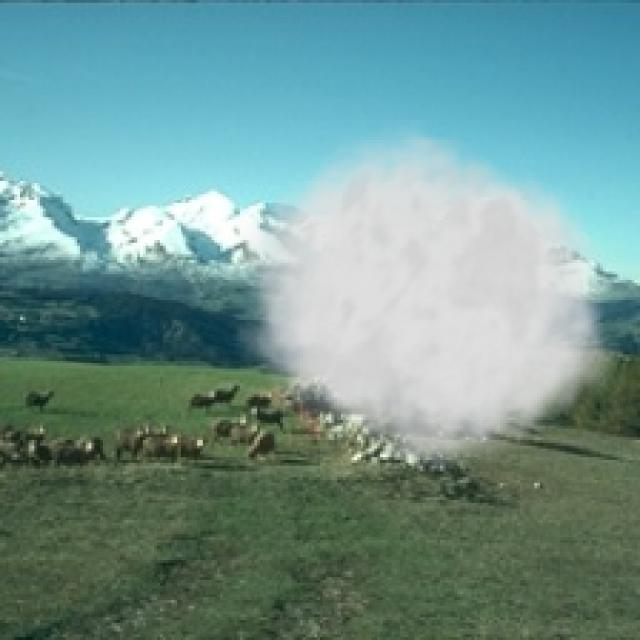smoke: (234, 117, 626, 477)
